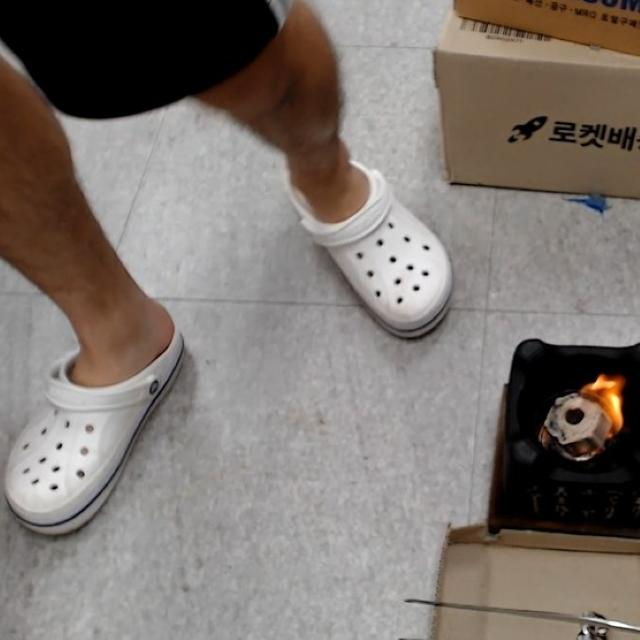Fire: (570, 362, 627, 435)
